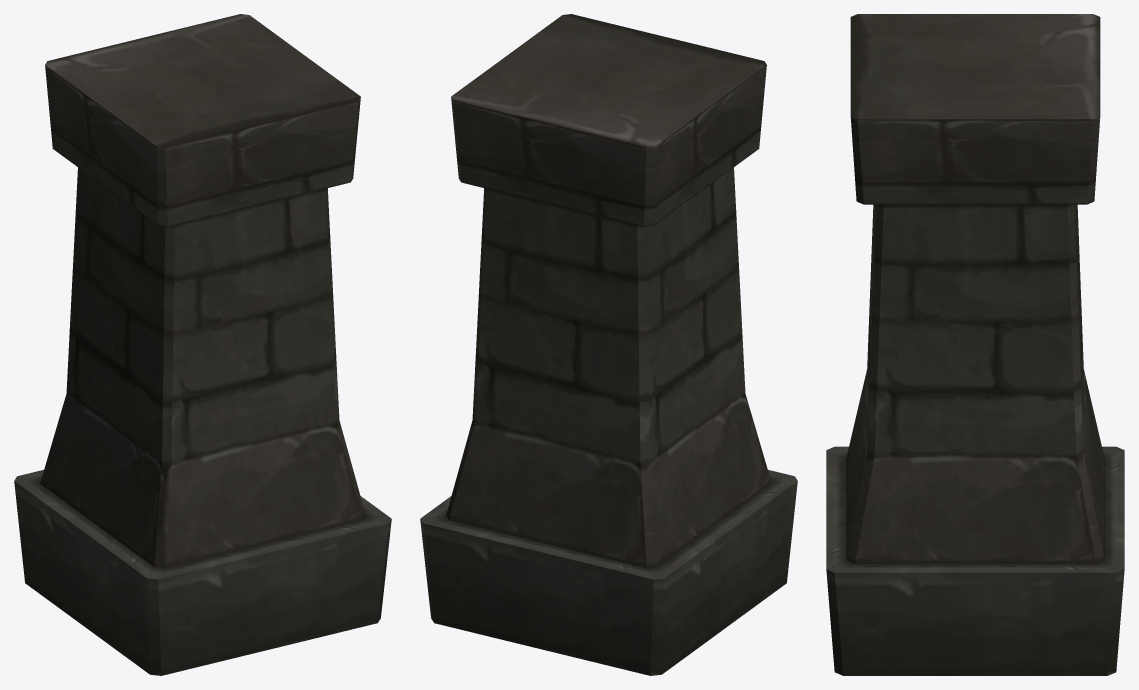
Rendered from sewer_pillar001.FBX.
The picture shows the model from 3 angles, left to right: view 1: azimuth 30°, elevation 25°; view 2: azimuth 150°, elevation 25°; view 3: azimuth 270°, elevation 25°; orthographic projection. The views are drawn at different scales.
Parts seen in each view (by area): view 1: sewer_pillar001; view 2: sewer_pillar001; view 3: sewer_pillar001.
Boxes of the visible parts, left/top/right/bottom form: sewer_pillar001: left=14, top=14, right=391, bottom=675; sewer_pillar001: left=420, top=14, right=797, bottom=675; sewer_pillar001: left=826, top=14, right=1124, bottom=675.
Bounding box in the file's own units: 245 × 497 × 245.
